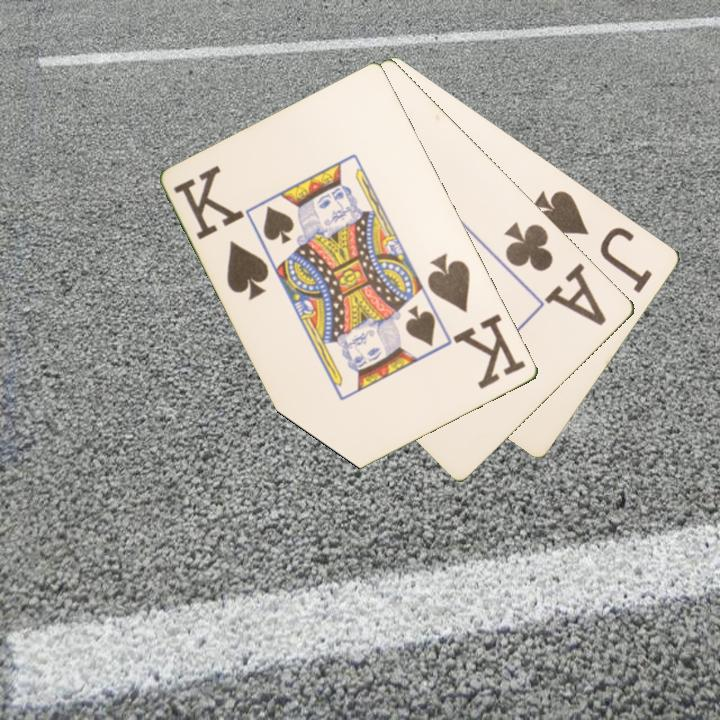Ac: (501, 218, 611, 329)
Js: (529, 186, 656, 296)
Ks: (424, 249, 529, 392), (170, 162, 273, 304)
